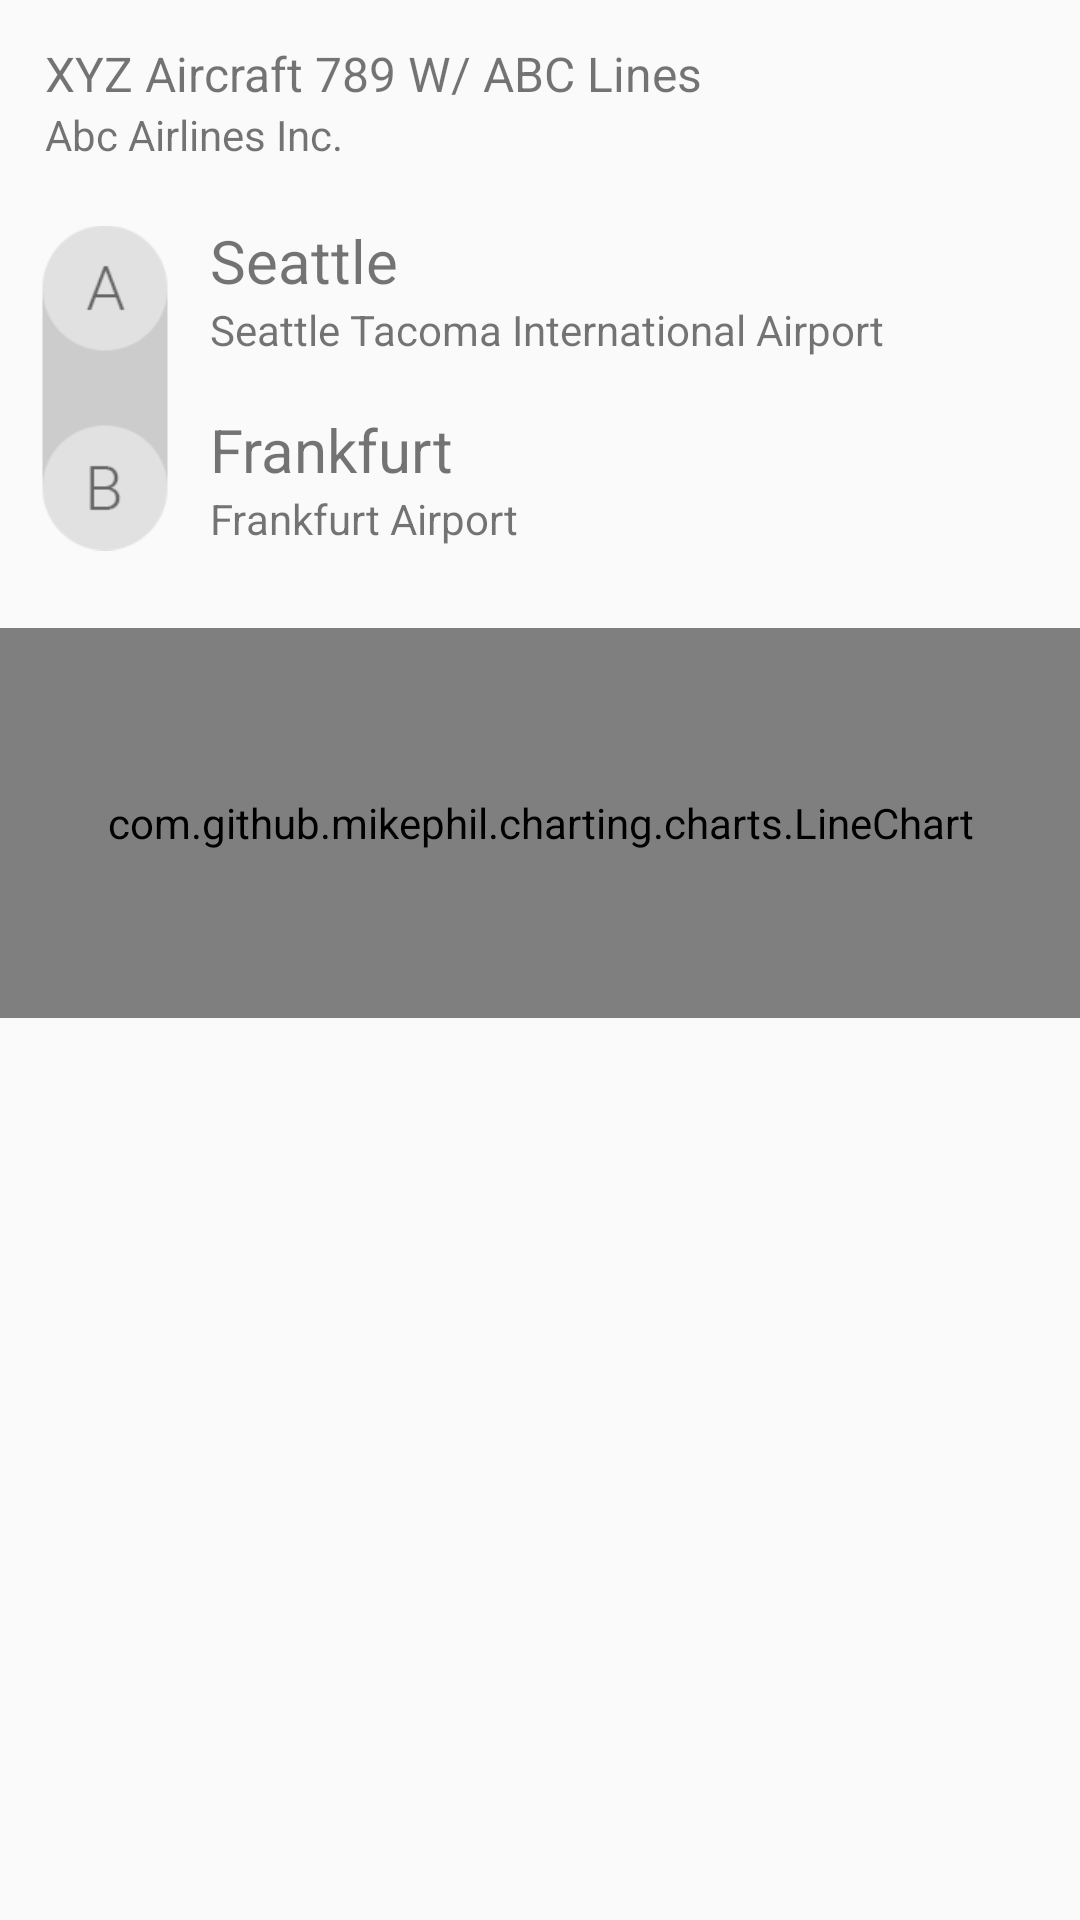

Named icons in this screenshot (1080px x 1920px) and their bounding boxes, (x1, y1, x2, y2):
from to: (43, 226, 167, 551)
